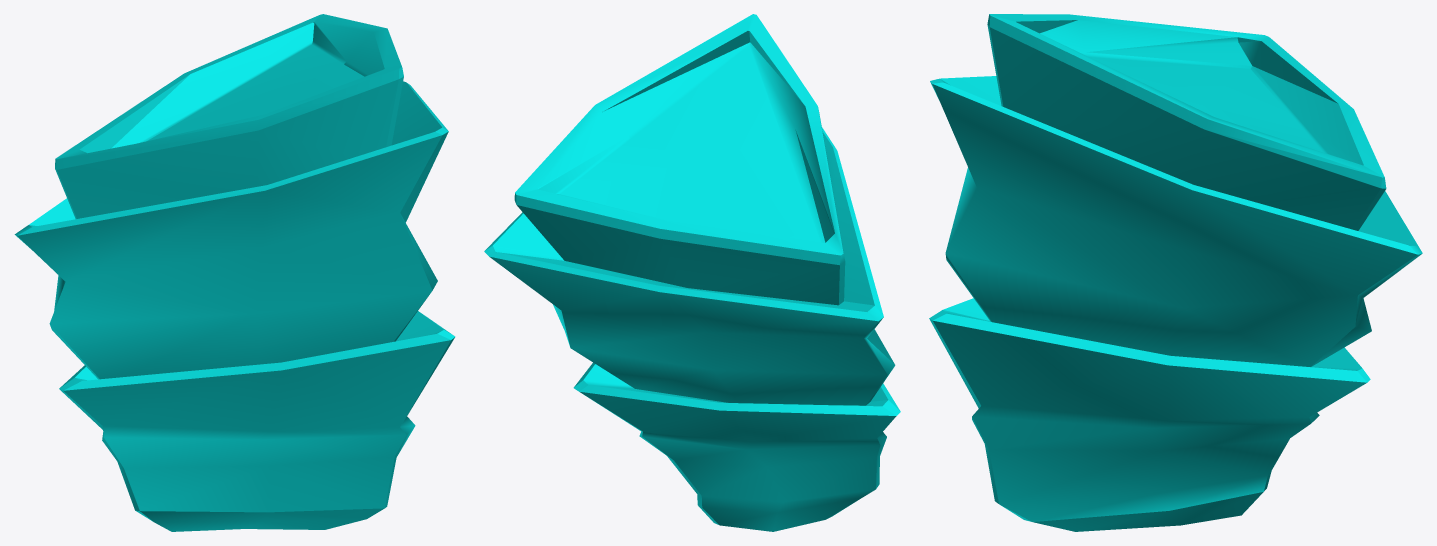
File: tricystal1_small_alpha.fbx
3 views of the same model, side by side, from view 1: azimuth 30°, elevation 25°; view 2: azimuth 150°, elevation 25°; view 3: azimuth 270°, elevation 25° (orthographic). The views are drawn at different scales.
Visible parts, largest first — view 1: pCylinder1; view 2: pCylinder1; view 3: pCylinder1.
Part boxes in pixels (x1=…): pCylinder1: x1=14, y1=14, x2=455, y2=531; pCylinder1: x1=484, y1=14, x2=900, y2=531; pCylinder1: x1=929, y1=14, x2=1422, y2=531.
Size of the model in its own units: 4.09 by 4.9 by 4.09.
